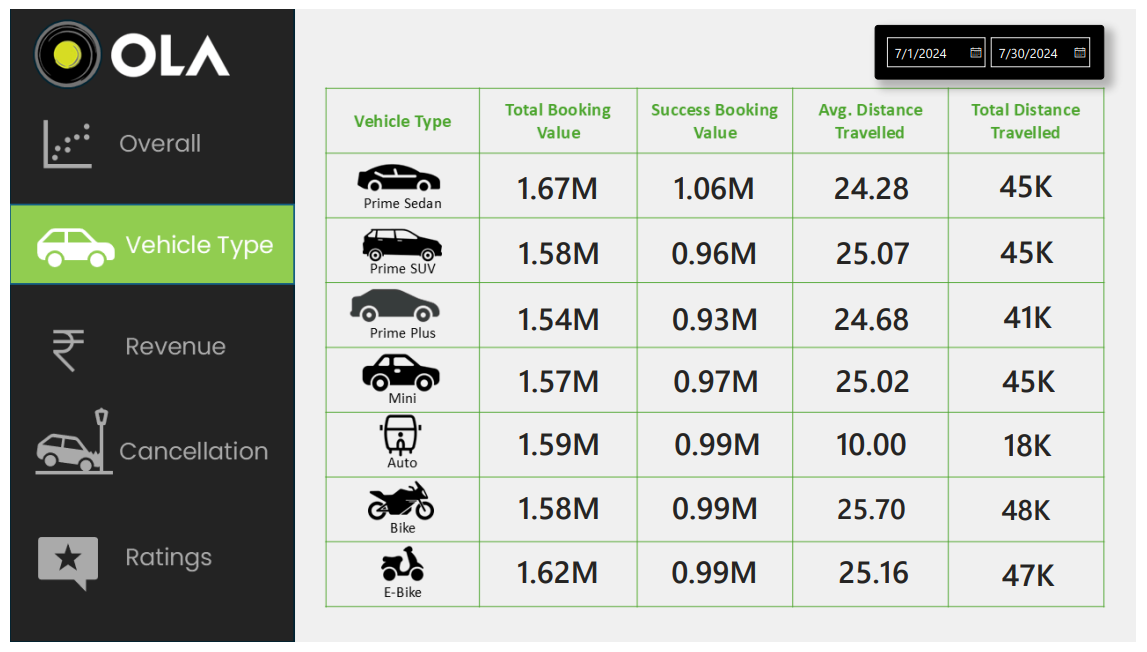

What the dashboard file says about the page in this screenshot:
{"tool":"powerbi","page":{"name":"Vehicle Type","canvas":[1280,720],"ordinal":1},"visuals":[{"type":"actionButton","box":[0,341.4,324.5,92.9],"z":0},{"type":"actionButton","box":[0,445.2,324.5,92.9],"z":1000},{"type":"actionButton","box":[0,579.1,324.5,92.9],"z":2000},{"type":"actionButton","box":[0,107.4,324.5,92.9],"z":3000},{"type":"cardVisual","fields":{"Data":["Sum(July.Booking_Value)"]},"box":[550,175,146.2,51.2],"z":4000},{"type":"cardVisual","fields":{"Data":["Sum(July.Booking_Value)"]},"box":[551.2,248.8,146.2,51.2],"z":5000},{"type":"cardVisual","fields":{"Data":["Sum(July.Booking_Value)"]},"box":[551.2,323.8,146.2,51.2],"z":6000},{"type":"cardVisual","fields":{"Data":["Sum(July.Booking_Value)"]},"box":[551.2,393.8,146.2,51.2],"z":7000},{"type":"cardVisual","fields":{"Data":["Sum(July.Booking_Value)"]},"box":[551.2,466.2,146.2,51.2],"z":8000},{"type":"cardVisual","fields":{"Data":["Sum(July.Booking_Value)"]},"box":[551.2,537.5,146.2,51.2],"z":9000},{"type":"cardVisual","fields":{"Data":["Sum(July.Booking_Value)"]},"box":[550,611.2,146.2,51.2],"z":10000},{"type":"cardVisual","fields":{"Data":["Sum(July.Booking_Value)"]},"box":[727.5,175,146.2,51.2],"z":11000},{"type":"cardVisual","fields":{"Data":["Sum(July.Booking_Value)"]},"box":[727.5,248.8,146.2,51.2],"z":12000},{"type":"cardVisual","fields":{"Data":["Sum(July.Booking_Value)"]},"box":[728.8,323.8,146.2,51.2],"z":13000},{"type":"cardVisual","fields":{"Data":["Sum(July.Booking_Value)"]},"box":[730,393.8,146.2,51.2],"z":14000},{"type":"cardVisual","fields":{"Data":["Sum(July.Booking_Value)"]},"box":[731.2,466.2,146.2,51.2],"z":15000},{"type":"cardVisual","fields":{"Data":["Sum(July.Booking_Value)"]},"box":[728.8,537.5,146.2,51.2],"z":16000},{"type":"cardVisual","fields":{"Data":["Sum(July.Booking_Value)"]},"box":[727.5,611.2,146.2,51.2],"z":17000},{"type":"cardVisual","fields":{"Data":["Avg(July.Ride_Distance)"]},"box":[906.2,175,146.2,51.2],"z":18000},{"type":"cardVisual","fields":{"Data":["Avg(July.Ride_Distance)"]},"box":[907.5,248.8,146.2,51.2],"z":19000},{"type":"cardVisual","fields":{"Data":["Avg(July.Ride_Distance)"]},"box":[906.2,323.8,146.2,51.2],"z":20000},{"type":"cardVisual","fields":{"Data":["Avg(July.Ride_Distance)"]},"box":[907.5,393.8,146.2,51.2],"z":21000},{"type":"cardVisual","fields":{"Data":["Avg(July.Ride_Distance)"]},"box":[906.2,466.2,146.2,51.2],"z":22000},{"type":"cardVisual","fields":{"Data":["Avg(July.Ride_Distance)"]},"box":[906.2,538.8,146.2,51.2],"z":23000},{"type":"cardVisual","fields":{"Data":["Avg(July.Ride_Distance)"]},"box":[908.8,611.2,146.2,51.2],"z":24000},{"type":"cardVisual","fields":{"Data":["Sum(July.Ride_Distance)"]},"box":[1082,173.3,146.2,51.2],"z":25000},{"type":"cardVisual","fields":{"Data":["Sum(July.Ride_Distance)"]},"box":[1082.5,246.7,146.2,51.2],"z":26000},{"type":"cardVisual","fields":{"Data":["Sum(July.Ride_Distance)"]},"box":[1084.2,320.8,146.2,51.2],"z":27000},{"type":"cardVisual","fields":{"Data":["Sum(July.Ride_Distance)"]},"box":[1084.7,393.8,146.2,51.2],"z":28000},{"type":"cardVisual","fields":{"Data":["Sum(July.Ride_Distance)"]},"box":[1084.2,467.2,146.2,51.2],"z":29000},{"type":"cardVisual","fields":{"Data":["Sum(July.Ride_Distance)"]},"box":[1082.2,539.7,146.2,51.2],"z":30000},{"type":"cardVisual","fields":{"Data":["Sum(July.Ride_Distance)"]},"box":[1084.5,613.8,146.2,51.2],"z":31000},{"type":"slicer","title":"Date","fields":{"Values":["July.Date"]},"box":[982.5,17.5,261.2,62.5],"z":32000}]}

Visuals, with their boxes on the page's 1280x720 design canvas (x1, y1, x2, y2). These are canvas units, not pixel positions in the 1147x652 screenshot, which may show the page scaled, cropped or inside an application window:
actionButton: detection(0, 341, 324, 434)
actionButton: detection(0, 445, 324, 538)
actionButton: detection(0, 579, 324, 672)
actionButton: detection(0, 107, 324, 200)
cardVisual - Sum(July.Booking_Value): detection(550, 175, 696, 226)
cardVisual - Sum(July.Booking_Value): detection(551, 249, 697, 300)
cardVisual - Sum(July.Booking_Value): detection(551, 324, 697, 375)
cardVisual - Sum(July.Booking_Value): detection(551, 394, 697, 445)
cardVisual - Sum(July.Booking_Value): detection(551, 466, 697, 517)
cardVisual - Sum(July.Booking_Value): detection(551, 538, 697, 589)
cardVisual - Sum(July.Booking_Value): detection(550, 611, 696, 662)
cardVisual - Sum(July.Booking_Value): detection(728, 175, 874, 226)
cardVisual - Sum(July.Booking_Value): detection(728, 249, 874, 300)
cardVisual - Sum(July.Booking_Value): detection(729, 324, 875, 375)
cardVisual - Sum(July.Booking_Value): detection(730, 394, 876, 445)
cardVisual - Sum(July.Booking_Value): detection(731, 466, 877, 517)
cardVisual - Sum(July.Booking_Value): detection(729, 538, 875, 589)
cardVisual - Sum(July.Booking_Value): detection(728, 611, 874, 662)
cardVisual - Avg(July.Ride_Distance): detection(906, 175, 1052, 226)
cardVisual - Avg(July.Ride_Distance): detection(908, 249, 1054, 300)
cardVisual - Avg(July.Ride_Distance): detection(906, 324, 1052, 375)
cardVisual - Avg(July.Ride_Distance): detection(908, 394, 1054, 445)
cardVisual - Avg(July.Ride_Distance): detection(906, 466, 1052, 517)
cardVisual - Avg(July.Ride_Distance): detection(906, 539, 1052, 590)
cardVisual - Avg(July.Ride_Distance): detection(909, 611, 1055, 662)
cardVisual - Sum(July.Ride_Distance): detection(1082, 173, 1228, 224)
cardVisual - Sum(July.Ride_Distance): detection(1082, 247, 1229, 298)
cardVisual - Sum(July.Ride_Distance): detection(1084, 321, 1230, 372)
cardVisual - Sum(July.Ride_Distance): detection(1085, 394, 1231, 445)
cardVisual - Sum(July.Ride_Distance): detection(1084, 467, 1230, 518)
cardVisual - Sum(July.Ride_Distance): detection(1082, 540, 1228, 591)
cardVisual - Sum(July.Ride_Distance): detection(1084, 614, 1231, 665)
"Date" slicer: detection(982, 18, 1244, 80)
